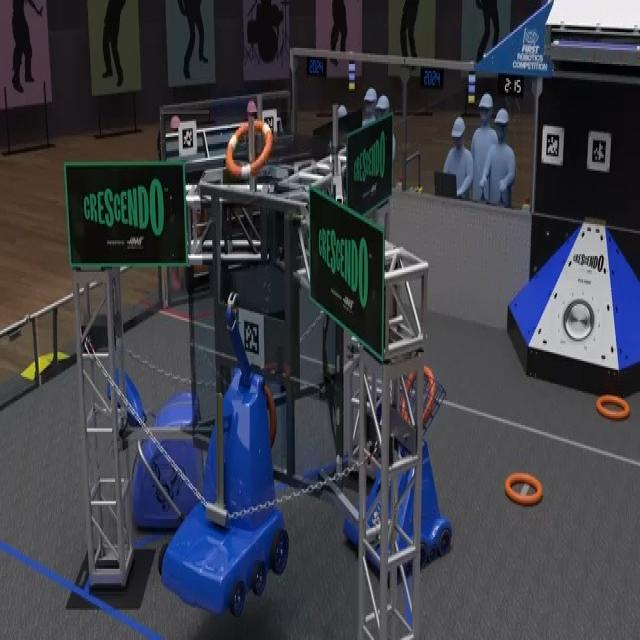notes: (504, 472, 543, 507), (597, 395, 632, 422)
